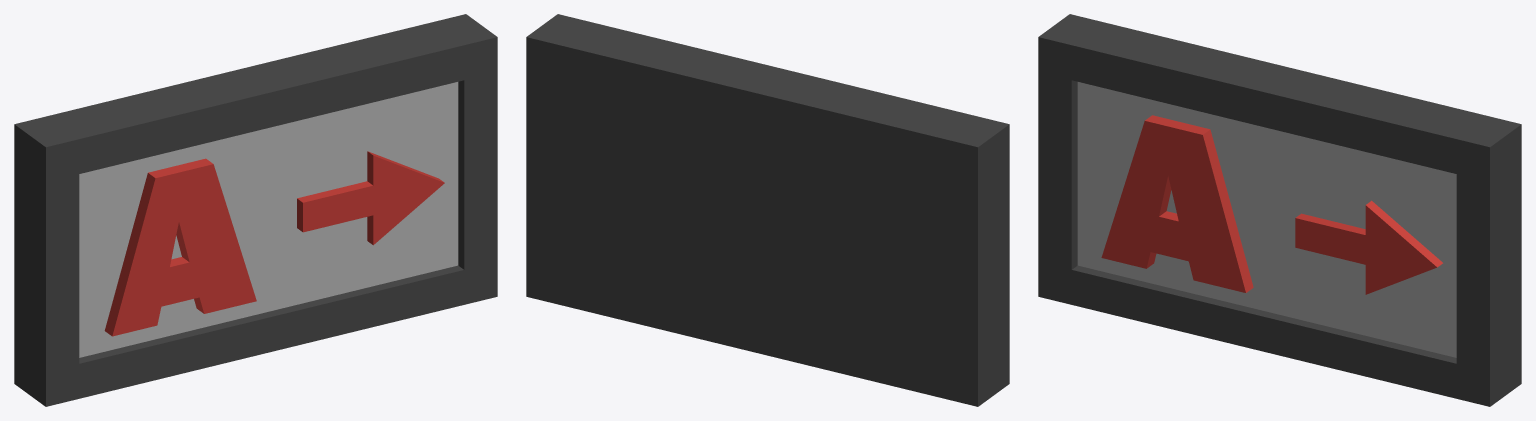
Rendered from SignA_01.fbx.
3 views of the same model, side by side, from view 1: azimuth 30°, elevation 25°; view 2: azimuth 150°, elevation 25°; view 3: azimuth 330°, elevation 25° (orthographic).
Visible parts, largest first — view 1: SignA_01; view 2: SignA_01; view 3: SignA_01.
Part boxes in pixels (bbox=[...]): SignA_01: bbox=[14, 14, 497, 406]; SignA_01: bbox=[526, 14, 1009, 406]; SignA_01: bbox=[1038, 14, 1521, 406].
Size of the model in its own units: 58.56 by 32.16 by 7.45.
